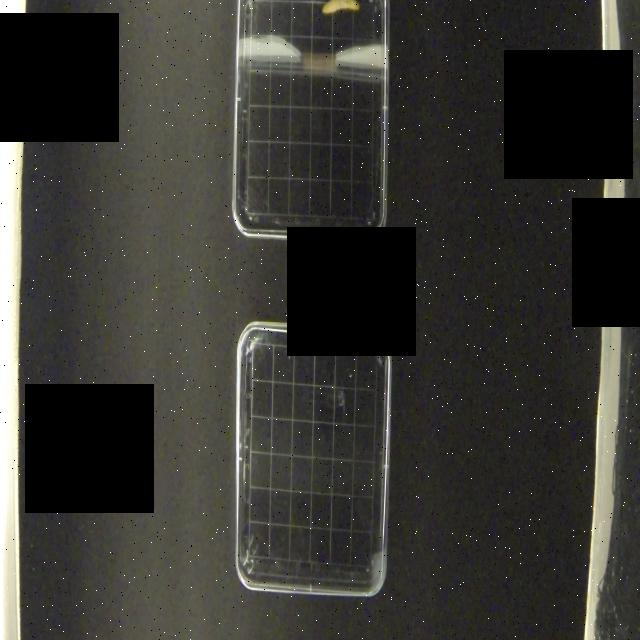larva: (321, 0, 360, 15)
